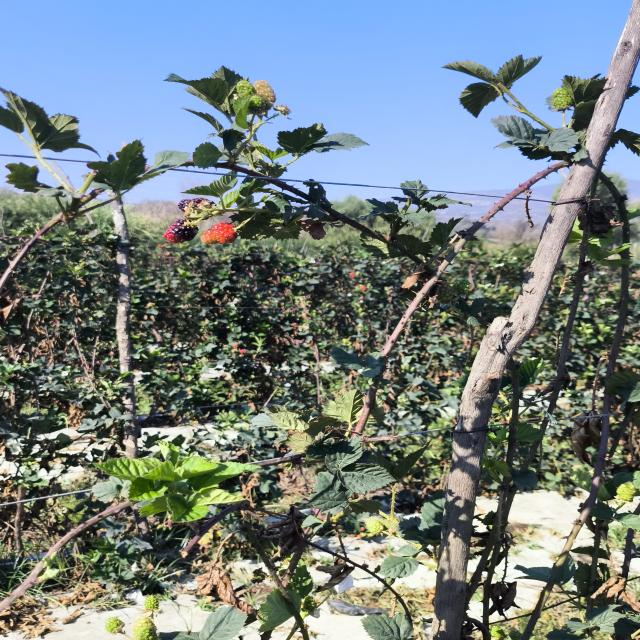maduro: (178, 199, 192, 211), (196, 198, 202, 200)
marron: (164, 219, 197, 243)
naranja: (200, 223, 237, 244)
verde: (253, 80, 275, 103), (552, 88, 572, 110), (235, 80, 255, 97), (249, 94, 265, 110)
